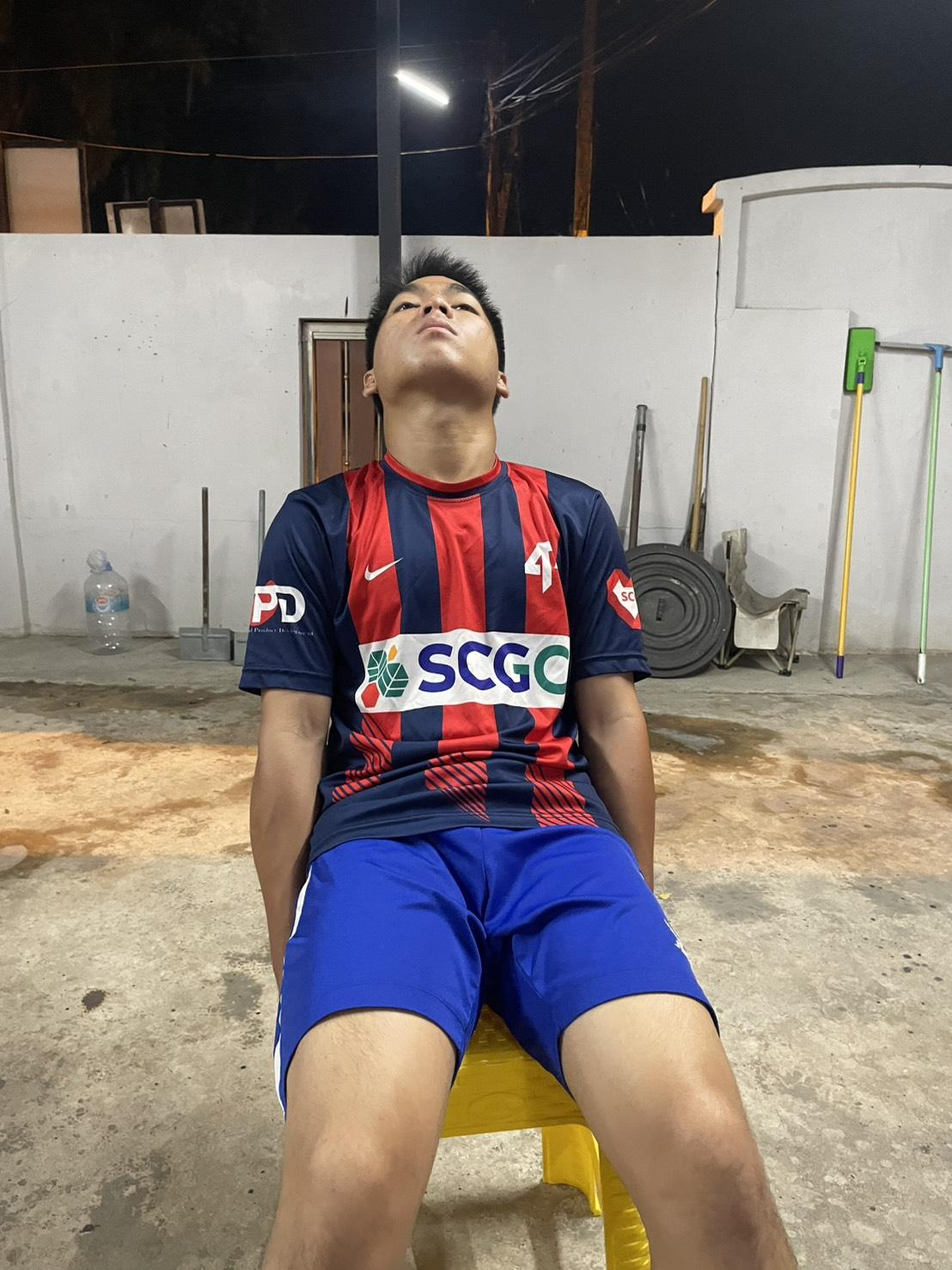BadPosture: (241, 252, 661, 905)
